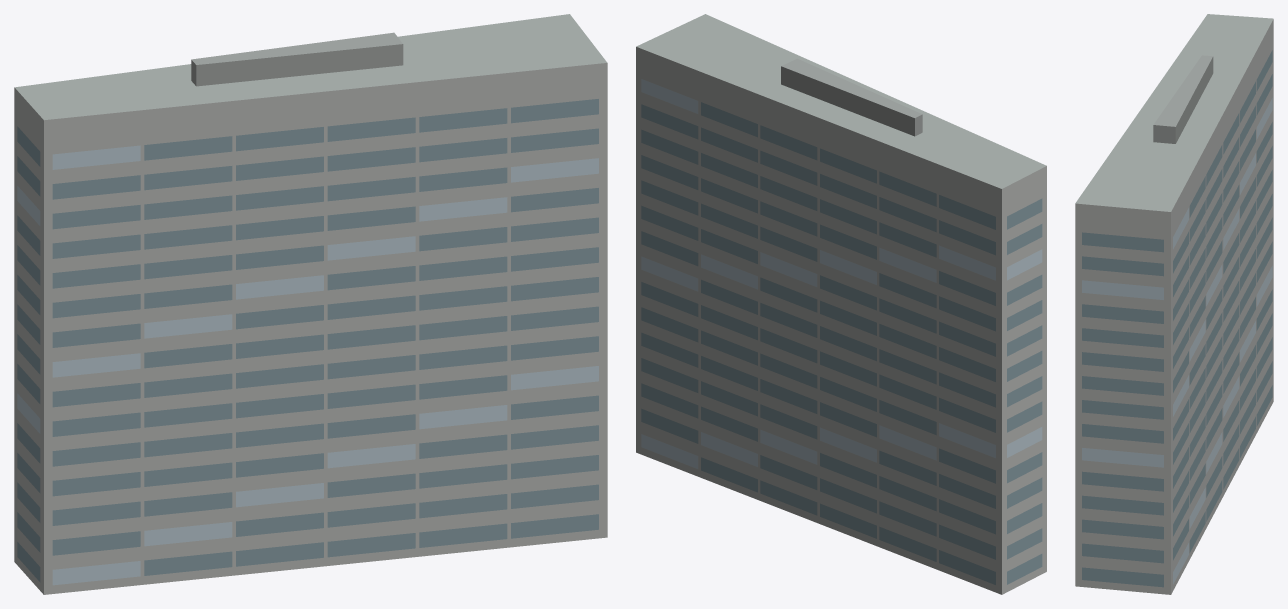
The model's file is apt-a10021288.glb.
3 renders of one model, left to right at view 1: azimuth 30°, elevation 25°; view 2: azimuth 150°, elevation 25°; view 3: azimuth 270°, elevation 25°, orthographic. The views are drawn at different scales.
Visible parts, largest first — view 1: apt-a10021288; view 2: apt-a10021288; view 3: apt-a10021288.
Boxes of the visible parts, x1,y1,x2,y2 form: apt-a10021288: [14, 14, 607, 594]; apt-a10021288: [636, 14, 1046, 594]; apt-a10021288: [1075, 14, 1273, 594].
Size of the model in its own units: 54.15 by 51 by 22.94.
